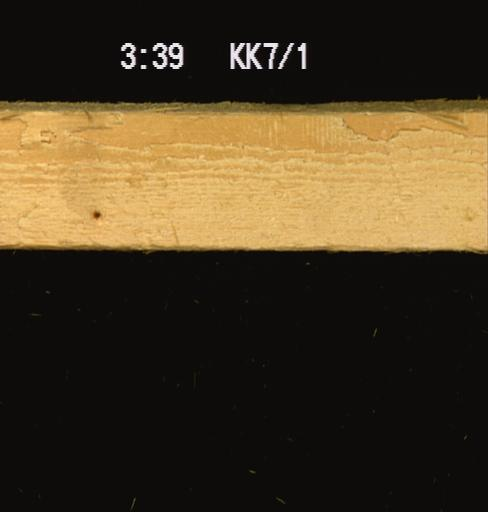small_knot: (87, 206, 103, 222)
